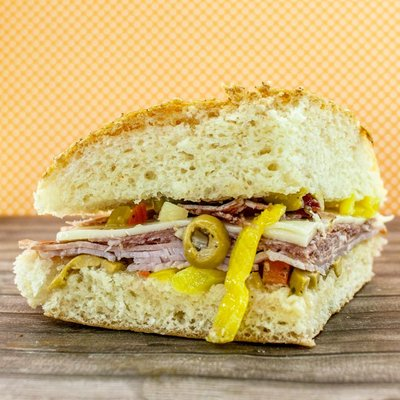soup: (12, 77, 394, 344)
